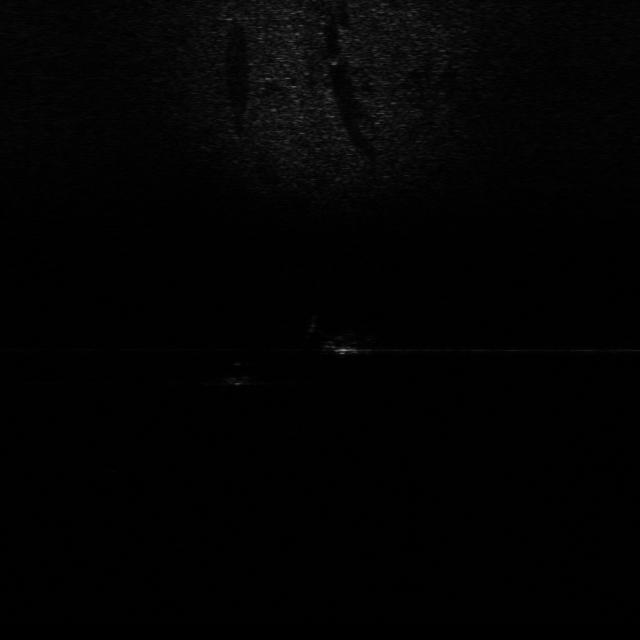ball: (218, 359, 256, 388)
human body: (298, 316, 389, 357)
